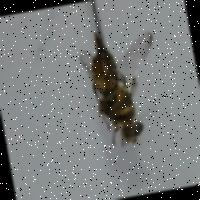Oriental-fruit-fly: (49, 18, 179, 158)
